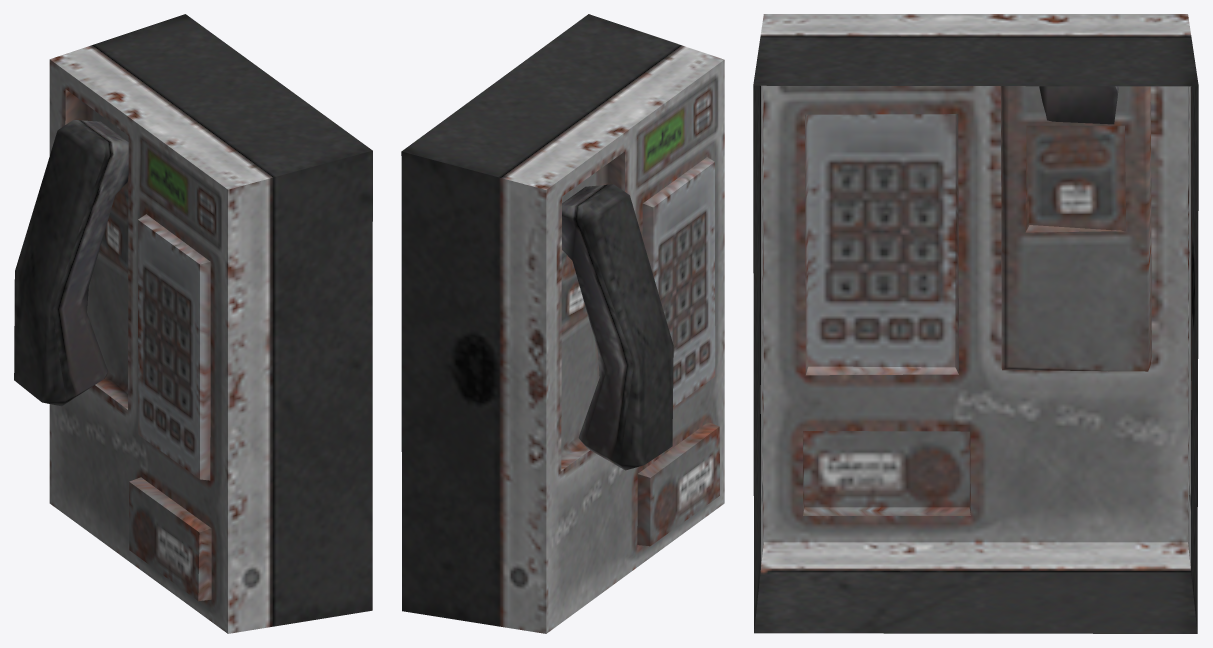
File: telephone 1.fbx
The picture shows the model from 3 angles, left to right: view 1: azimuth 30°, elevation 25°; view 2: azimuth 150°, elevation 25°; view 3: azimuth 270°, elevation 25°; orthographic projection. The views are drawn at different scales.
Parts seen in each view (by area): view 1: Telephone_LOD2; view 2: Telephone_LOD2; view 3: Telephone_LOD2.
Part boxes in pixels (box(x1,y1,x2,y2)): Telephone_LOD2: box(14, 14, 372, 633); Telephone_LOD2: box(401, 14, 724, 633); Telephone_LOD2: box(753, 14, 1198, 633).
Bounding box in the file's own units: 0.2063 × 0.438 × 0.3226.
1 material, 1 textured.
